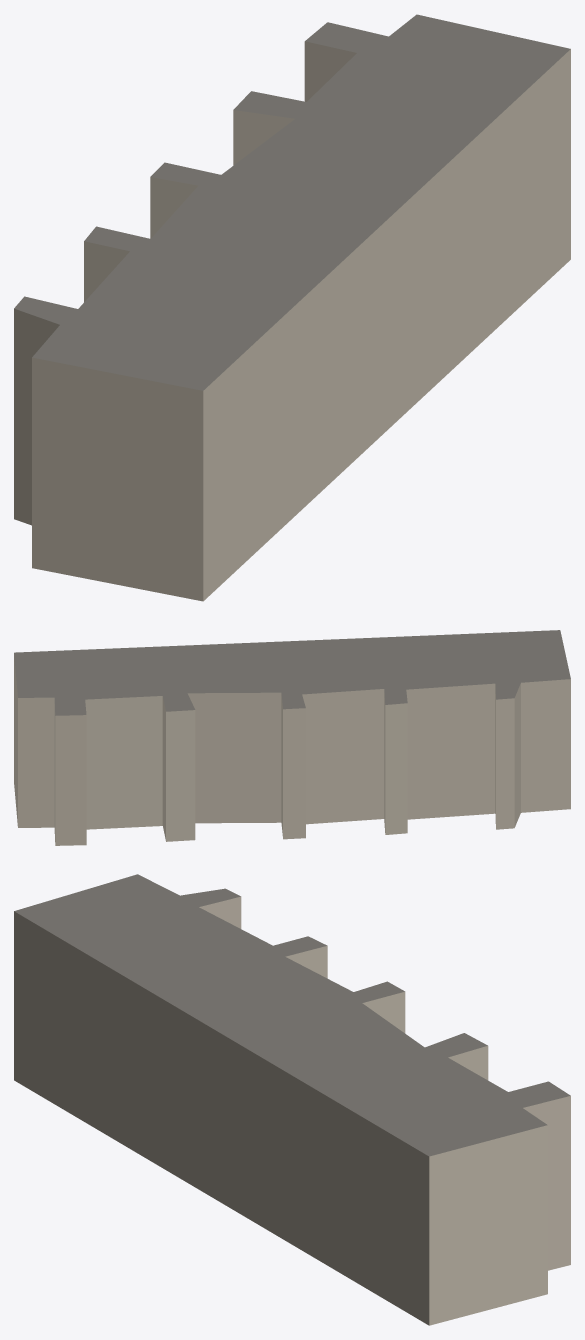
The picture shows the model from 3 angles, top to bottom: view 1: azimuth 30°, elevation 25°; view 2: azimuth 150°, elevation 25°; view 3: azimuth 270°, elevation 25°; orthographic projection. The views are drawn at different scales.
Visible parts, largest first — view 1: HP-w1516161944; view 2: HP-w1516161944; view 3: HP-w1516161944.
Part boxes in pixels (x1,y1,x2,y2): HP-w1516161944: (14,14,570,601); HP-w1516161944: (14,630,570,845); HP-w1516161944: (14,874,570,1325).
Size of the model in its own units: 64.42 by 18 by 53.71.
